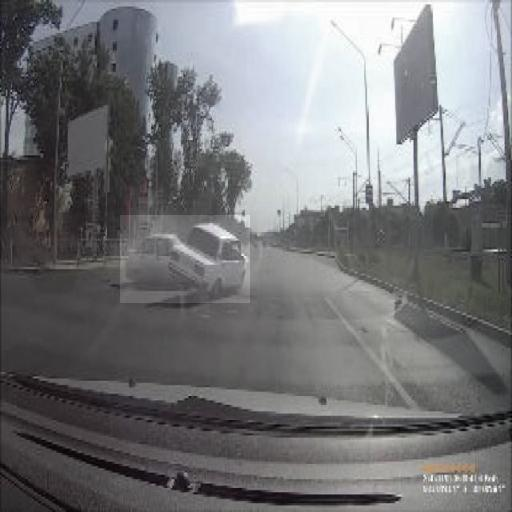小汽车撞小汽车: (120, 215, 250, 303)
